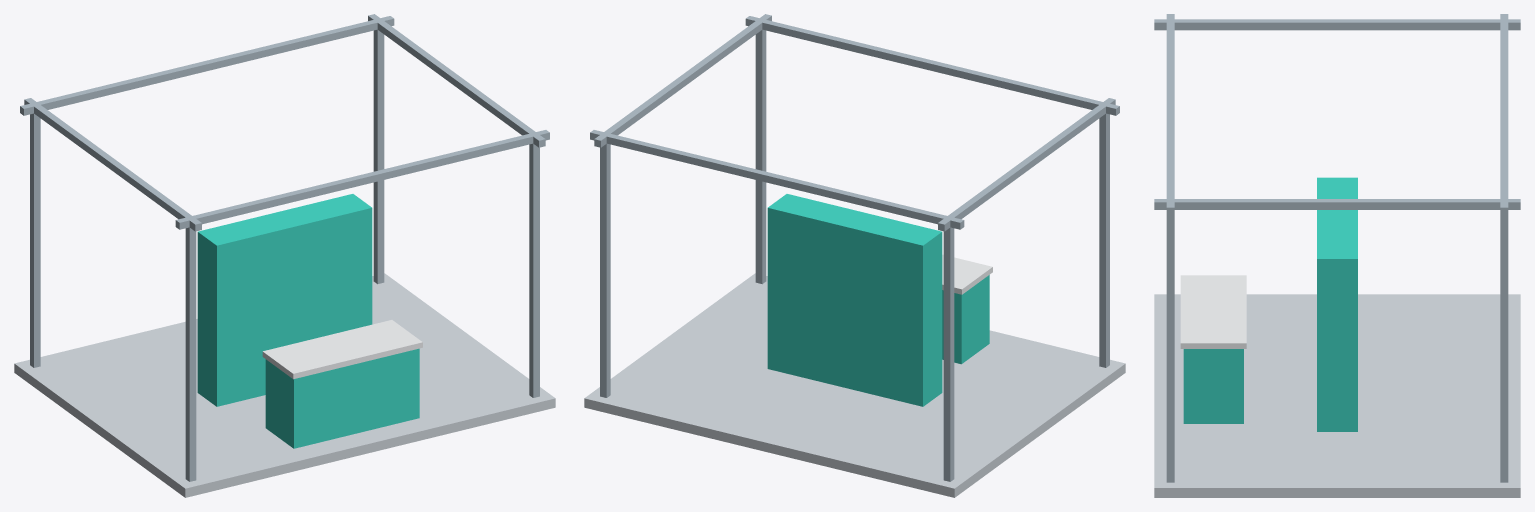
3 views of the same model, side by side, from view 1: azimuth 30°, elevation 25°; view 2: azimuth 150°, elevation 25°; view 3: azimuth 270°, elevation 25° (orthographic). The views are drawn at different scales.
Parts seen in each view (by area): view 1: Exhibition Booth Concept; view 2: Exhibition Booth Concept; view 3: Exhibition Booth Concept.
Boxes of the visible parts, bbox=[...] form: Exhibition Booth Concept: bbox=[14, 14, 555, 497]; Exhibition Booth Concept: bbox=[584, 14, 1125, 497]; Exhibition Booth Concept: bbox=[1154, 14, 1520, 497].
Bounding box in the file's own units: 5 × 3.49 × 4.
